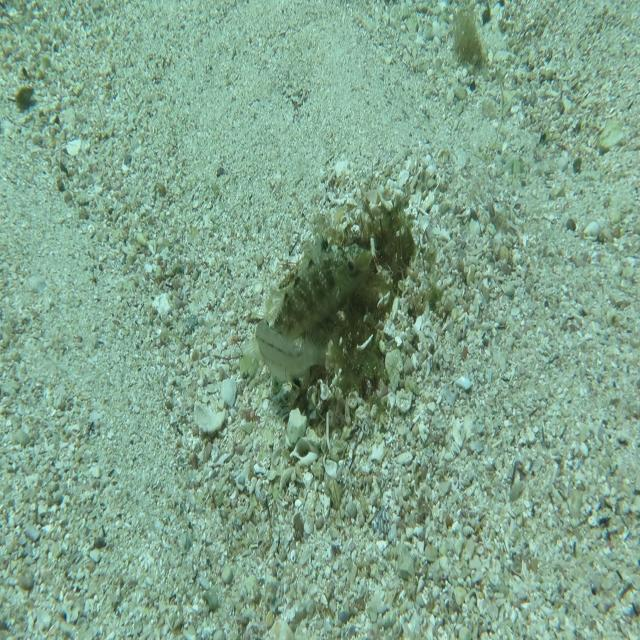FAN: (236, 230, 373, 381)
core_nest: (352, 220, 400, 276)
female: (256, 315, 336, 385)
nest: (278, 149, 438, 415)
